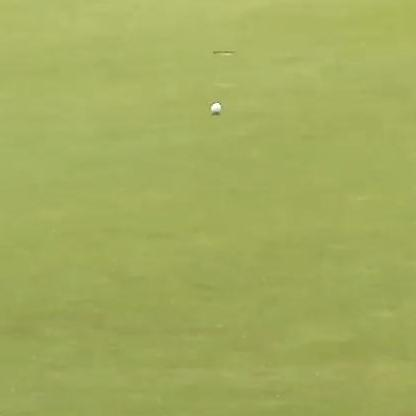golfball: (209, 101, 220, 113)
